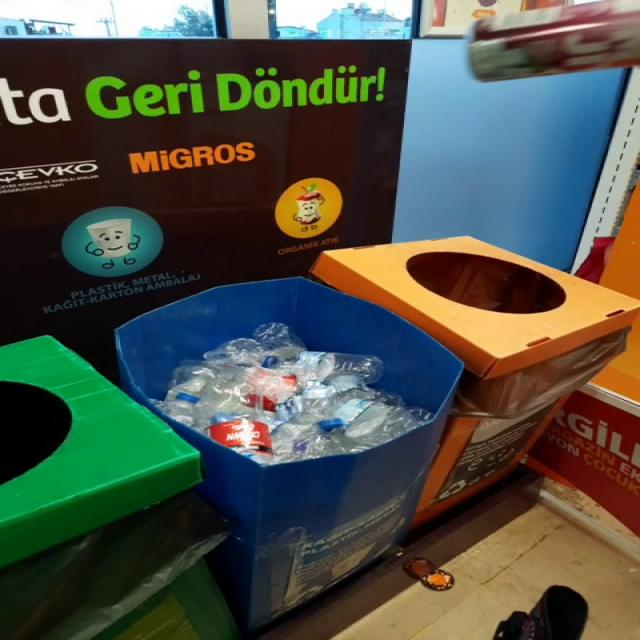bin: (115, 237, 640, 633)
